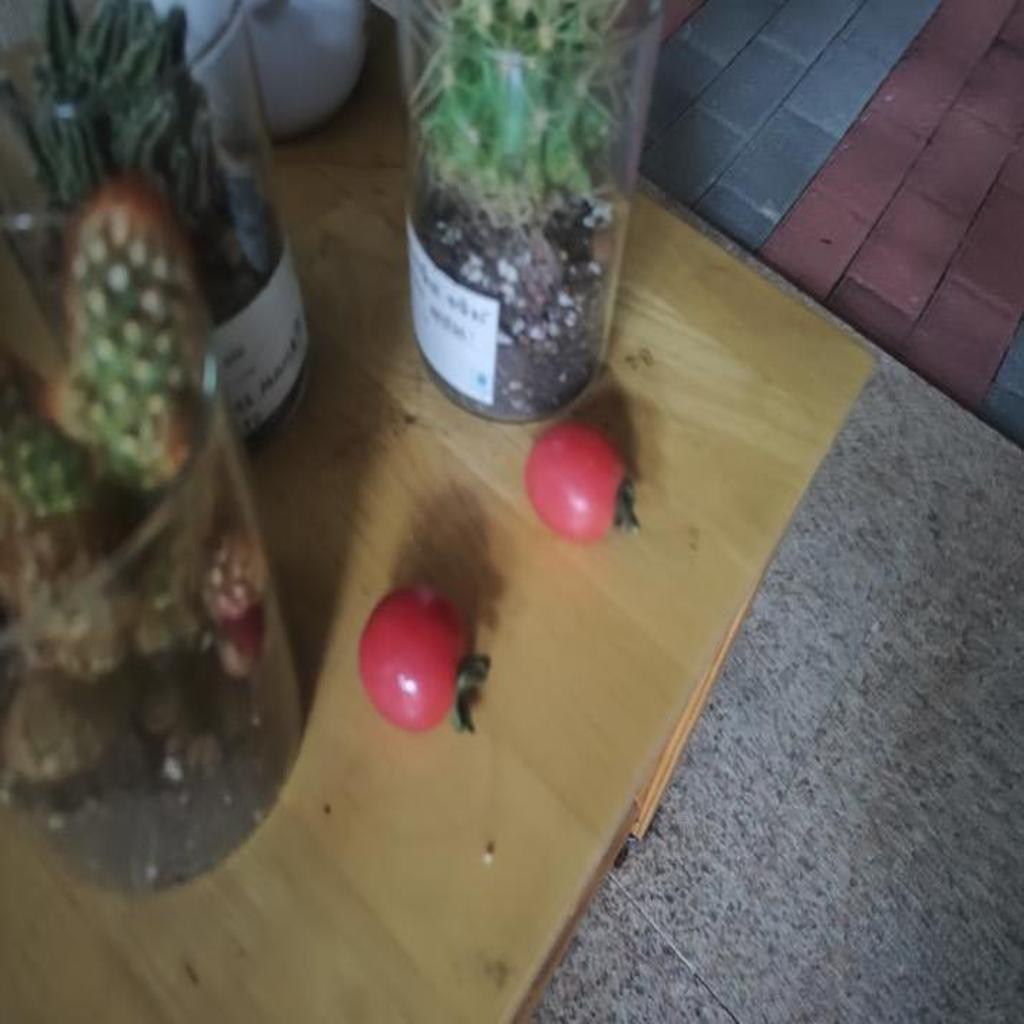tomato: (349, 583, 486, 730), (525, 420, 638, 547)
